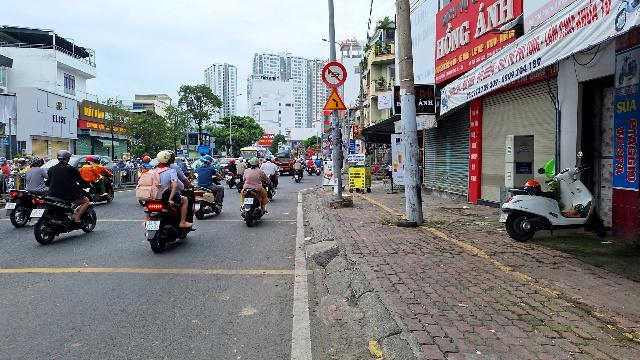cam-bop-coi: (322, 62, 347, 88)
cho-ngoat-nguy-hiem-ben-trai: (323, 88, 348, 111)
